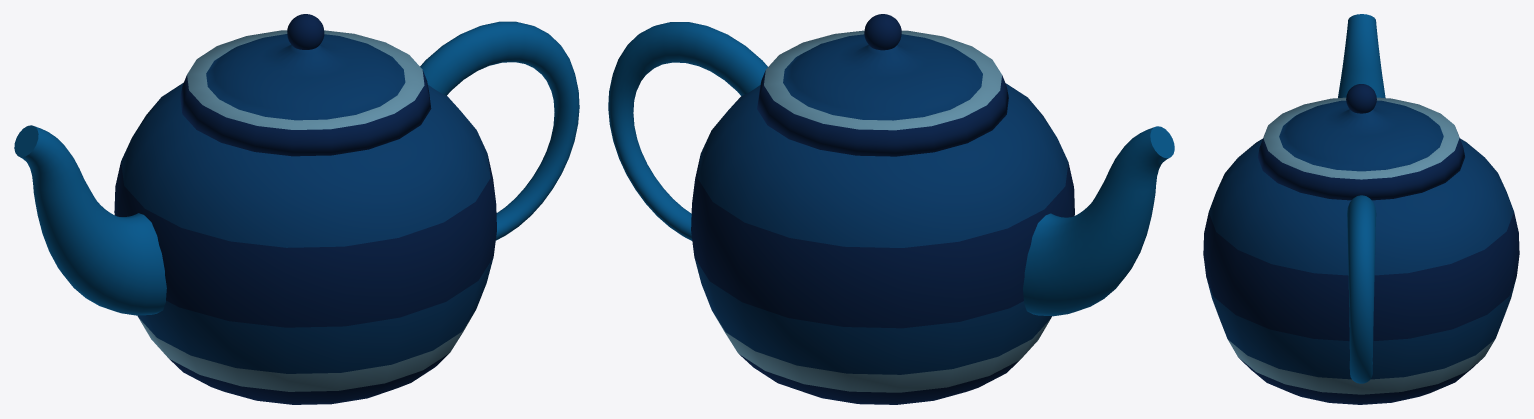
Rendered from tea pot.fbx.
The picture shows the model from 3 angles, left to right: view 1: azimuth 30°, elevation 25°; view 2: azimuth 150°, elevation 25°; view 3: azimuth 270°, elevation 25°; orthographic projection. The views are drawn at different scales.
Visible parts, largest first — view 1: TEA_POT; view 2: TEA_POT; view 3: TEA_POT.
Boxes of the visible parts, x1,y1,x2,y2 form: TEA_POT: (14, 14, 579, 404); TEA_POT: (608, 14, 1174, 404); TEA_POT: (1203, 14, 1519, 404).
Bounding box in the file's own units: 10.45 × 6.14 × 6.23.
